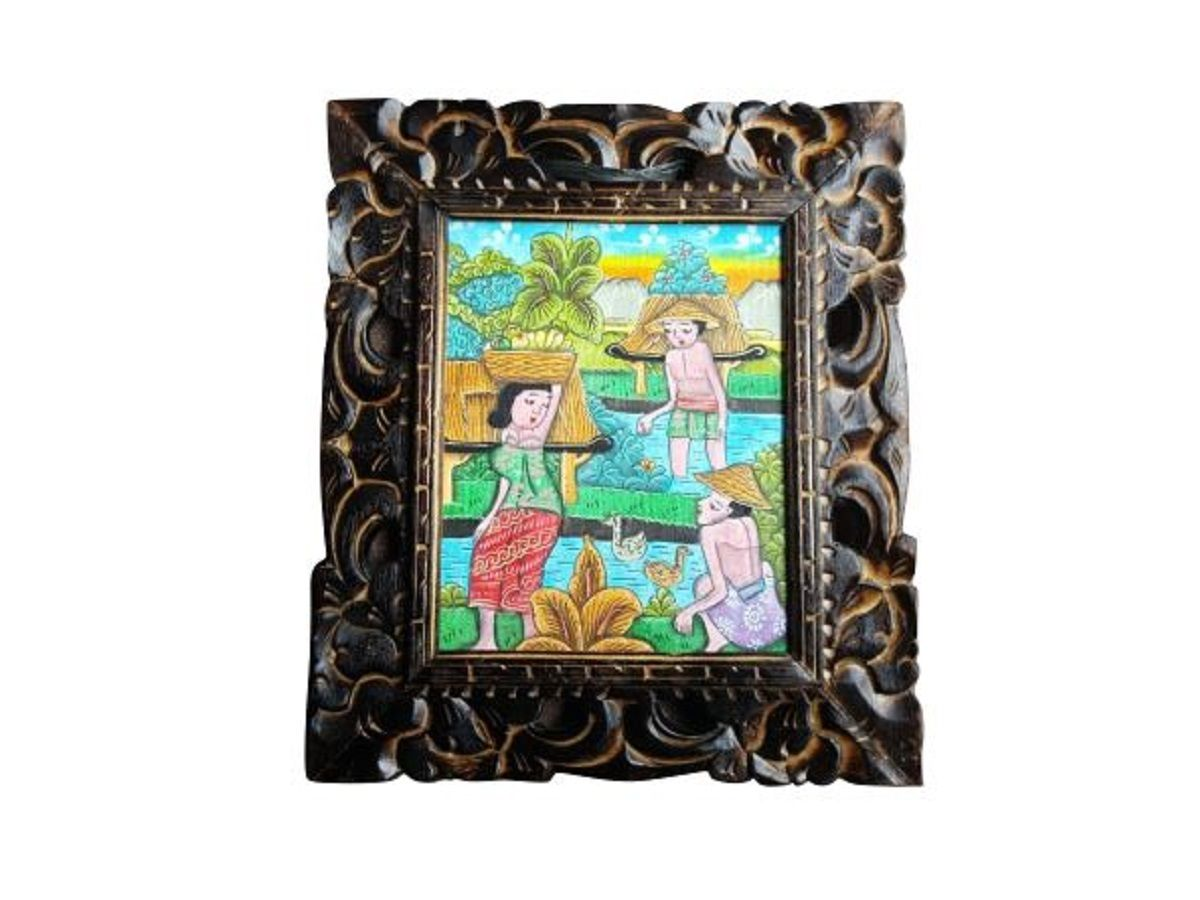lukisan: (317, 95, 926, 790)
